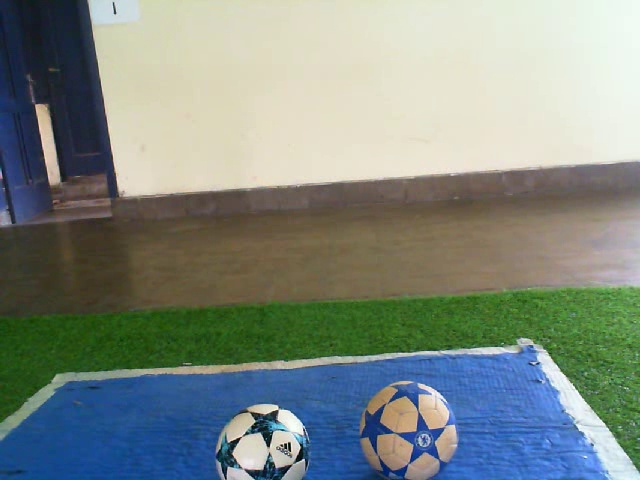ball: (356, 378, 462, 480), (212, 401, 313, 480)
